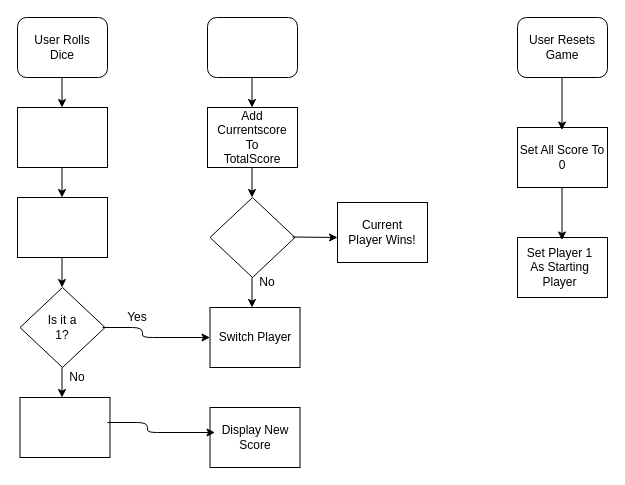
Image size: 625x485. Some labels were removed from this diagram. The shapes that lost their labels are listed below. From the top down, each one's centre as x and y in pixels, then its label:
At (252,47): "User Holds Score".
At (62,137): "Generate Random Number".
At (62,227): "Display Dice Roll".
At (252,237): "Score >= 100".
At (64,427): "Add Dice To Currentscore".
